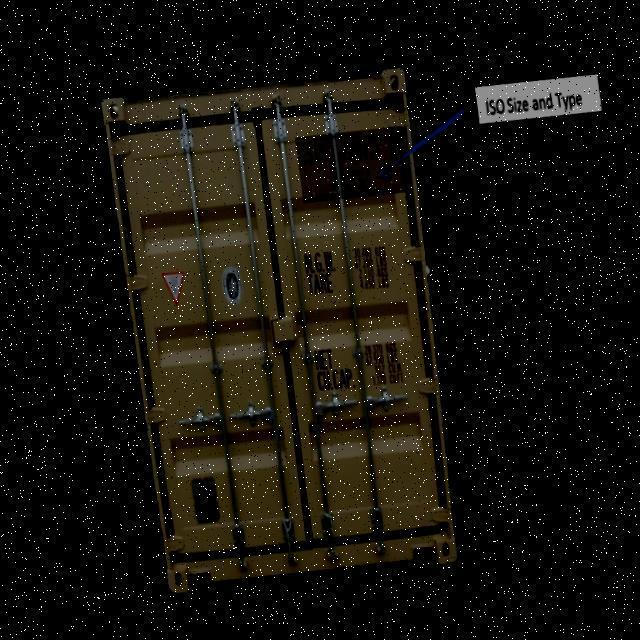container_number_h: (295, 117, 412, 204)
